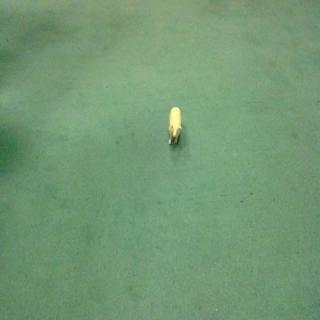sheep: (157, 105, 197, 147)
